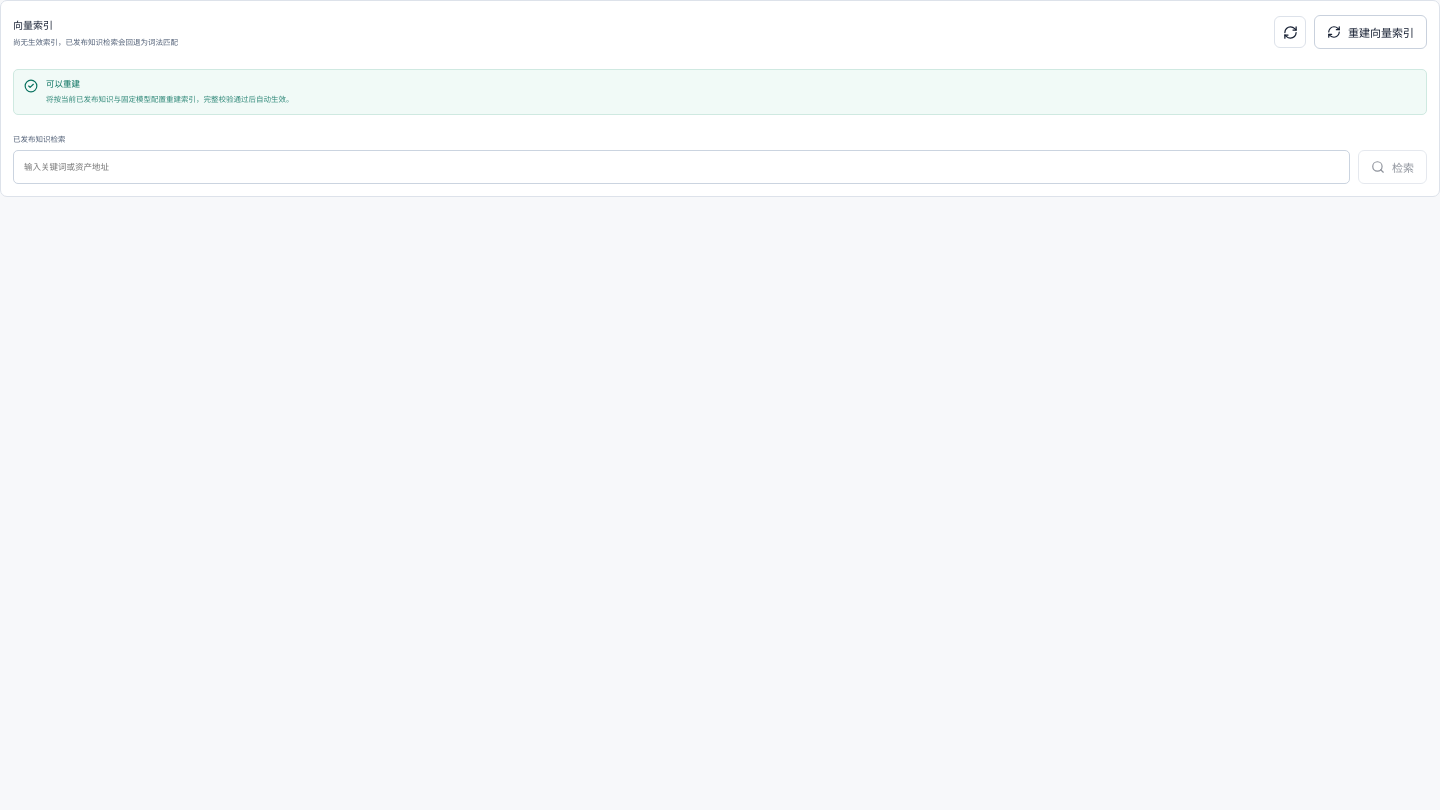
it: persistent embedding › surfaces a precondition failure once and closes the confirmation dialog
What coordinates should you click on to do the following:
click the button "重建向量索引"
I would click on:
 (1370, 32)
Its box is top-left (1314, 15), bottom-right (1427, 49).
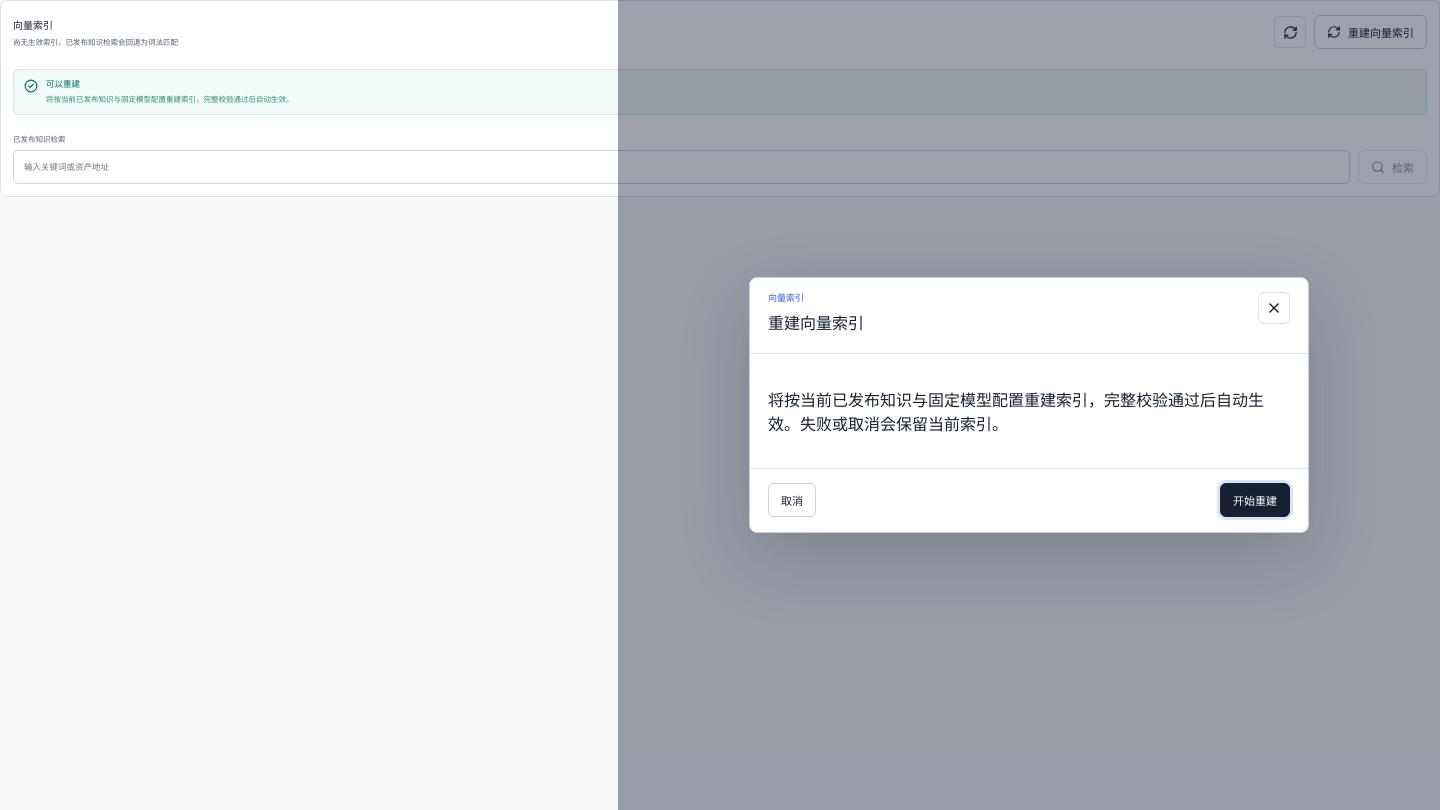
What coordinates should you click on to do the following:
click the button "开始重建"
I would click on:
 (1255, 500)
Its box is top-left (1220, 483), bottom-right (1290, 517).
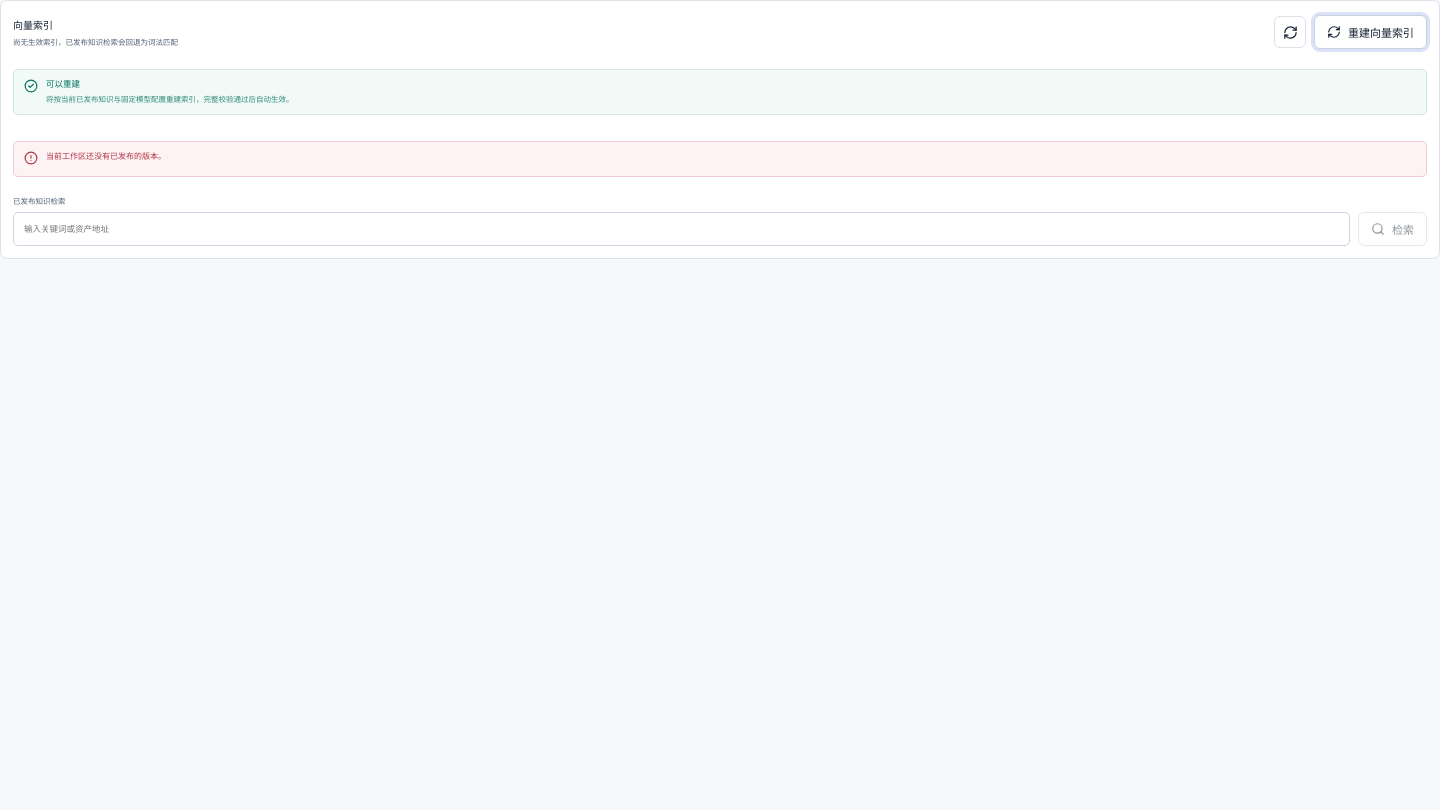
Check: the dialog is gone
Check: the message "当前工作区还没有已发布的版本。" is shown, box top-left (13, 141), bottom-right (1427, 177)
